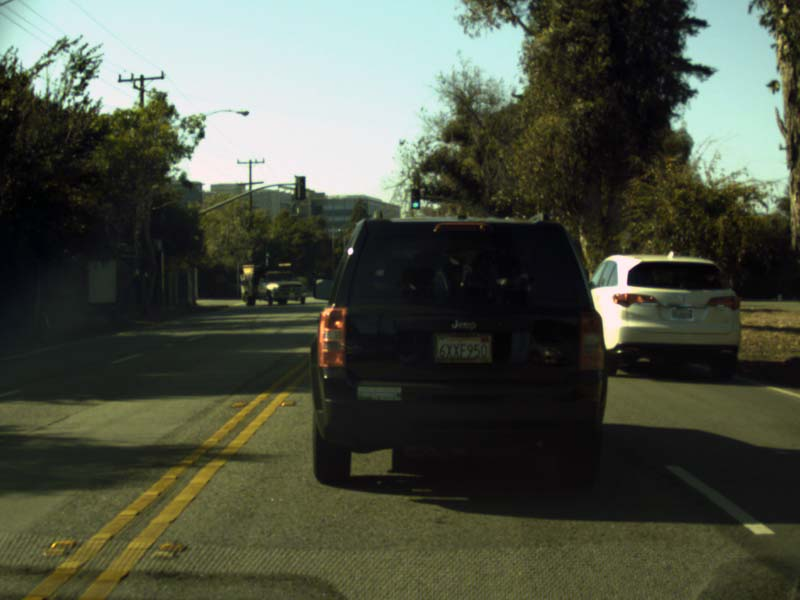Green: (411, 189, 419, 209), (265, 247, 270, 259)
